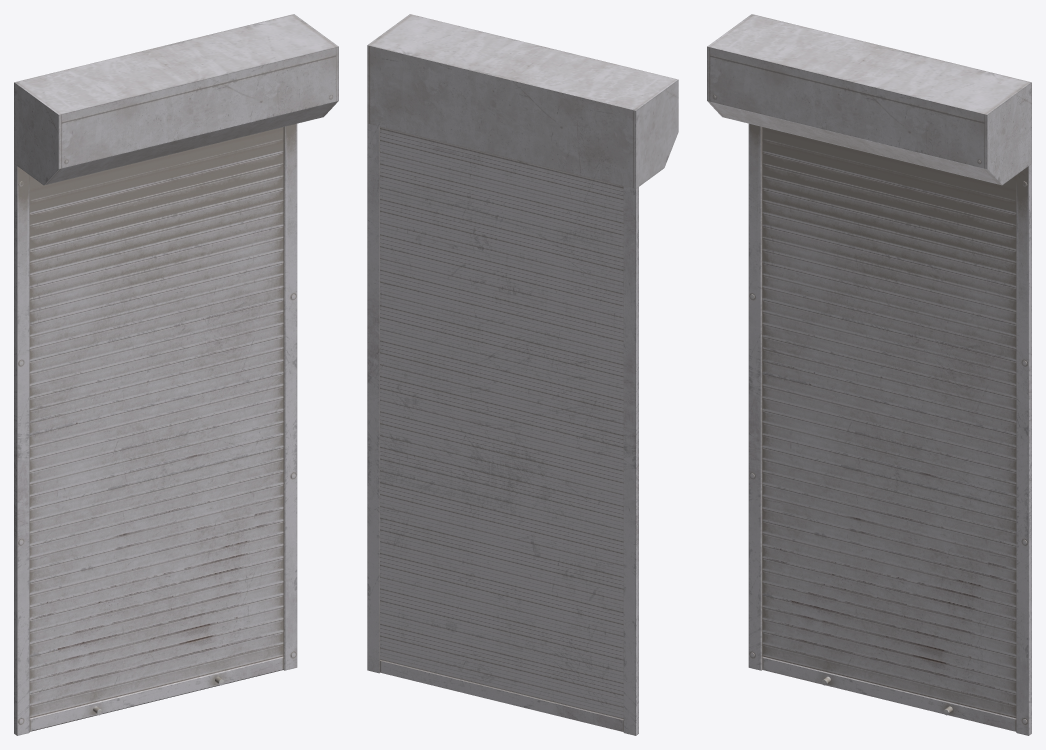
Rendered from vault_shutter.gltf.
The picture shows the model from 3 angles, left to right: view 1: azimuth 30°, elevation 25°; view 2: azimuth 150°, elevation 25°; view 3: azimuth 330°, elevation 25°; orthographic projection. The views are drawn at different scales.
Visible parts, largest first — view 1: vault_shutter; view 2: vault_shutter; view 3: vault_shutter.
Boxes of the visible parts, bbox=[...] form: vault_shutter: bbox=[14, 14, 338, 735]; vault_shutter: bbox=[367, 14, 678, 735]; vault_shutter: bbox=[707, 14, 1031, 735].
Size of the model in its own units: 1.08 by 2.4 by 0.3001.
1 material, 1 textured.
